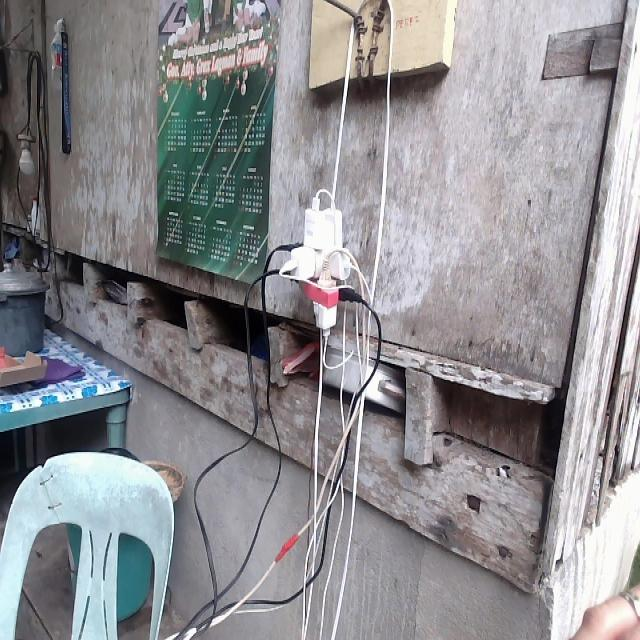-: (277, 186, 358, 334)
